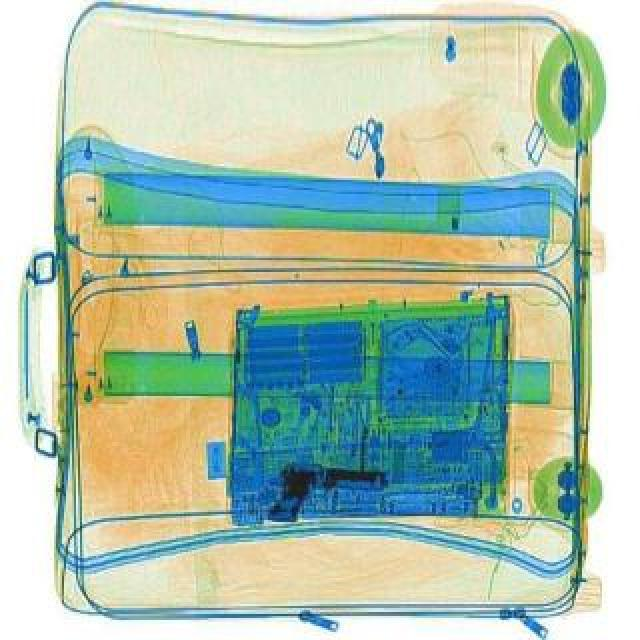gun: (266, 454, 394, 534)
